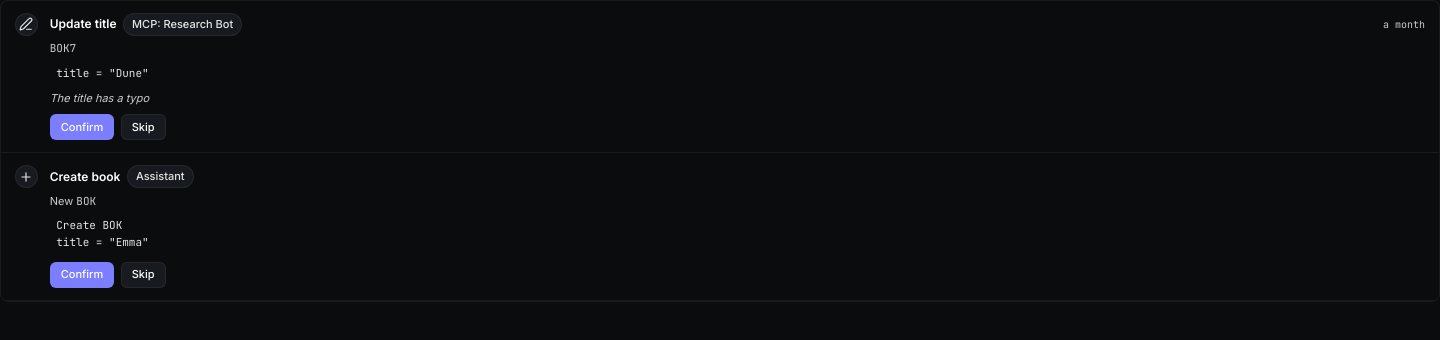
Test: Inbox proposals tab › skip runs the skip action; errors show on the row
The width and height of the screenshot is (1440, 340).
Click the button "Skip" below "The title has a typo" at (143, 127), box [121,114,166,140]
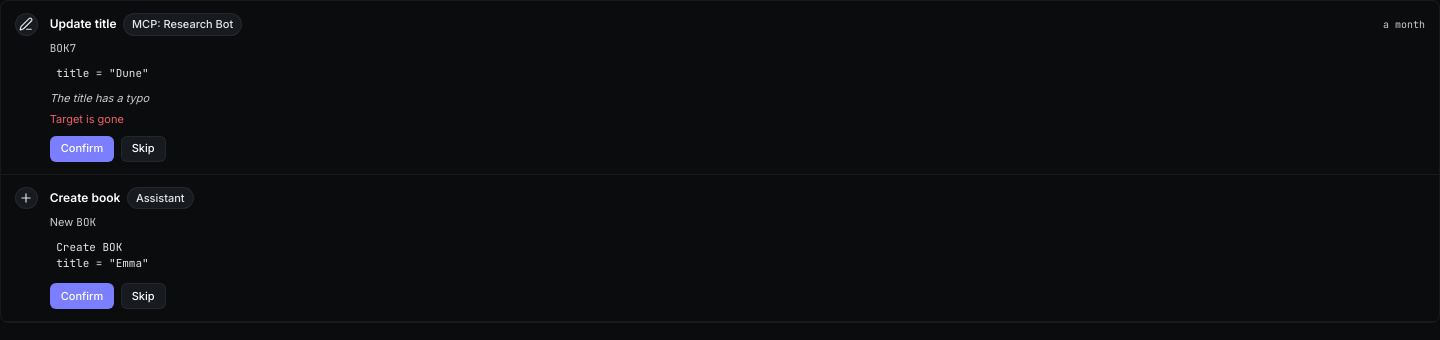
Result: the text "Target is gone" is shown at [50,112,124,126]
